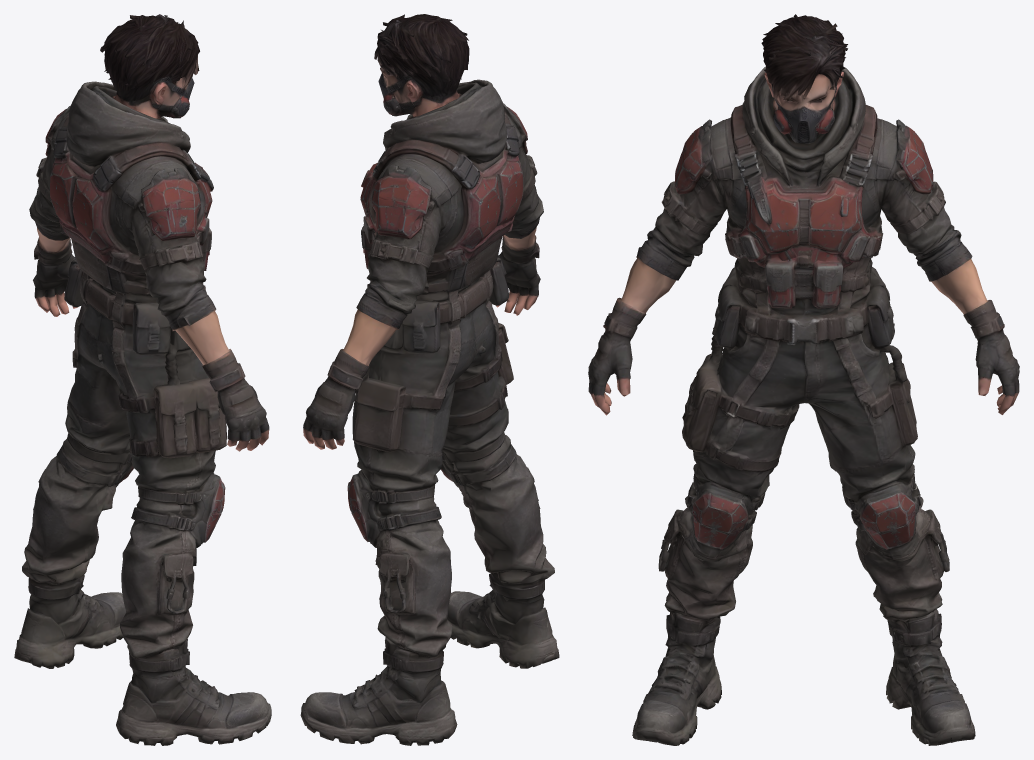
Rendered from enemy-flanker-v1.glb.
3 views of the same model, side by side, from view 1: azimuth 30°, elevation 25°; view 2: azimuth 150°, elevation 25°; view 3: azimuth 270°, elevation 25° (orthographic). The views are drawn at different scales.
Parts seen in each view (by area): view 1: tripo_node_fc1d0fec-7af5-47c3-98e6-4d7be2f7f810; view 2: tripo_node_fc1d0fec-7af5-47c3-98e6-4d7be2f7f810; view 3: tripo_node_fc1d0fec-7af5-47c3-98e6-4d7be2f7f810.
Part boxes in pixels (left/top/right/bottom): tripo_node_fc1d0fec-7af5-47c3-98e6-4d7be2f7f810: left=14, top=14, right=271, bottom=745; tripo_node_fc1d0fec-7af5-47c3-98e6-4d7be2f7f810: left=300, top=14, right=559, bottom=745; tripo_node_fc1d0fec-7af5-47c3-98e6-4d7be2f7f810: left=588, top=14, right=1019, bottom=745.
Bounding box in the file's own units: 0.204 × 0.9797 × 0.5401.
1 material, 1 textured.
